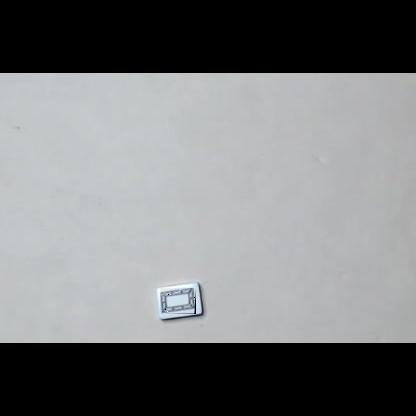5z: (160, 288, 196, 314)
